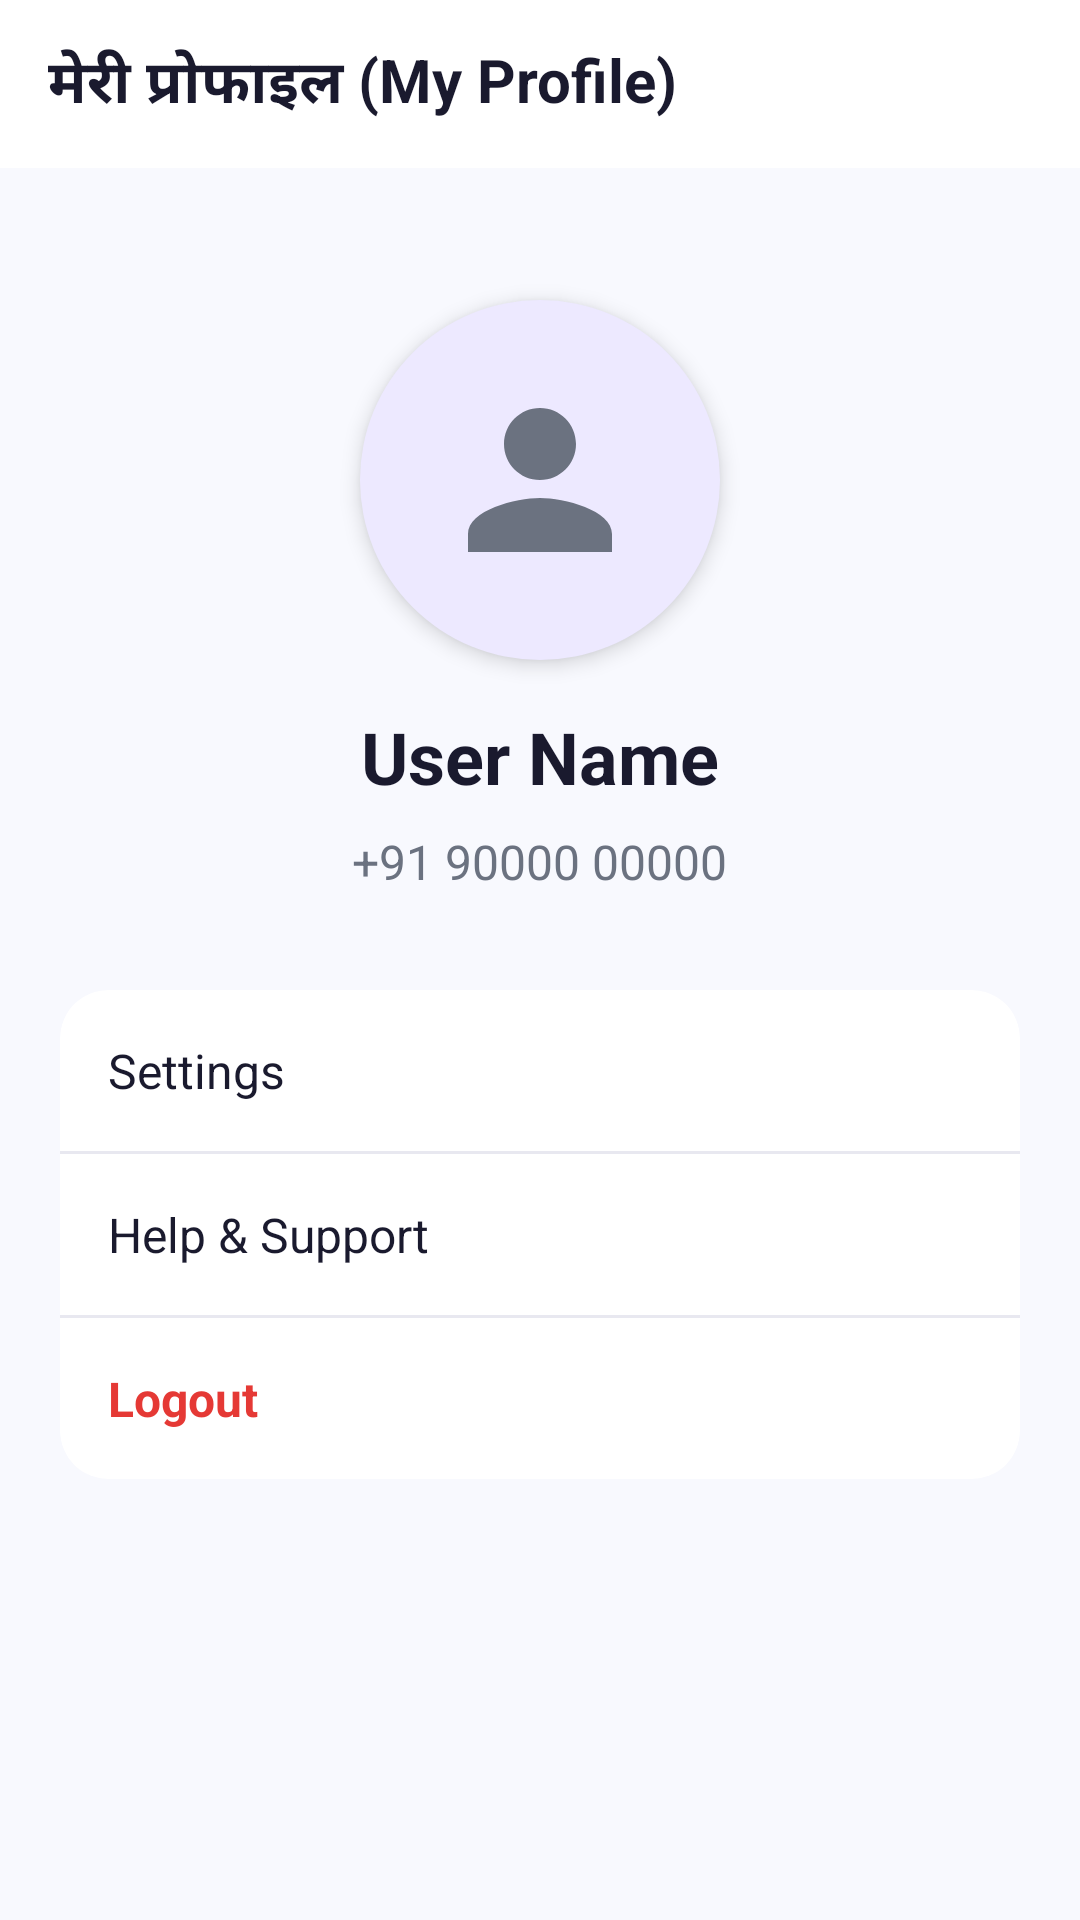

Icons on this 1080px x 1920px Android screen, each with its box as (x1, y1, x2, y2):
profile: (360, 300, 720, 660)
